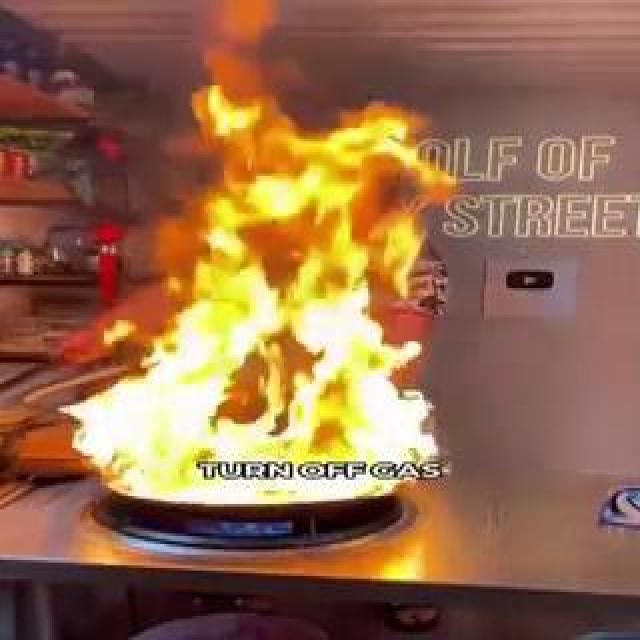Fire: (284, 296, 366, 422)
